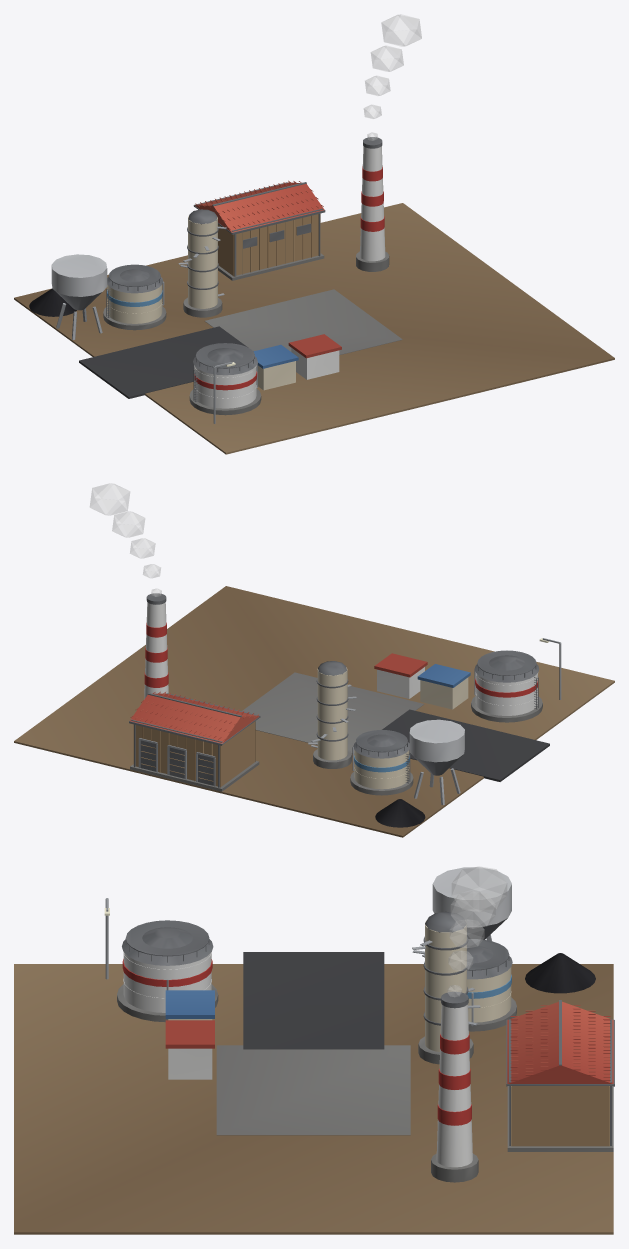
Rendered from Refinery_P1.fbx.
3 views of the same model, one above another, from view 1: azimuth 30°, elevation 25°; view 2: azimuth 150°, elevation 25°; view 3: azimuth 270°, elevation 25° (orthographic). The views are drawn at different scales.
Visible parts, largest first — view 1: Refinery.Pad, Refinery.Hall, Refinery.Tank0, Refinery.Tank1, Refinery.Col0, Refinery.Utils, Refinery.Stack0, Refinery.Intake, Refinery.Smoke0, Refinery.CoalIn; view 2: Refinery.Pad, Refinery.Hall, Refinery.Tank0, Refinery.Tank1, Refinery.Utils, Refinery.Col0, Refinery.Intake, Refinery.Smoke0, Refinery.Stack0, Refinery.CoalIn; view 3: Refinery.Pad, Refinery.Hall, Refinery.Tank0, Refinery.Stack0, Refinery.Col0, Refinery.Utils, Refinery.Intake, Refinery.Smoke0, Refinery.Tank1, Refinery.CoalIn.
Boxes of the visible parts, left/top/right/bottom form: Refinery.Pad: left=14, top=203, right=614, bottom=454; Refinery.Hall: left=193, top=180, right=325, bottom=280; Refinery.Tank0: left=189, top=343, right=261, bottom=415; Refinery.Tank1: left=103, top=264, right=166, bottom=330; Refinery.Col0: left=178, top=209, right=226, bottom=317; Refinery.Utils: left=253, top=334, right=341, bottom=390; Refinery.Stack0: left=356, top=137, right=389, bottom=271; Refinery.Intake: left=51, top=254, right=107, bottom=339; Refinery.Smoke0: left=364, top=14, right=421, bottom=140; Refinery.CoalIn: left=29, top=288, right=76, bottom=316; Refinery.Pad: left=14, top=586, right=614, bottom=837; Refinery.Hall: left=129, top=691, right=260, bottom=791; Refinery.Tank0: left=471, top=650, right=542, bottom=722; Refinery.Tank1: left=350, top=730, right=413, bottom=795; Refinery.Utils: left=374, top=653, right=470, bottom=709; Refinery.Col0: left=308, top=661, right=356, bottom=768; Refinery.Intake: left=409, top=719, right=464, bottom=805; Refinery.Smoke0: left=90, top=483, right=161, bottom=596; Refinery.Stack0: left=144, top=593, right=168, bottom=699; Refinery.CoalIn: left=375, top=799, right=425, bottom=827; Refinery.Pad: left=14, top=952, right=613, bottom=1234; Refinery.Hall: left=506, top=1000, right=614, bottom=1151; Refinery.Tank0: left=117, top=920, right=218, bottom=1022; Refinery.Stack0: left=431, top=991, right=478, bottom=1182; Refinery.Col0: left=412, top=911, right=480, bottom=1064; Refinery.Utils: left=165, top=990, right=214, bottom=1079; Refinery.Intake: left=432, top=867, right=511, bottom=940; Refinery.Smoke0: left=447, top=866, right=506, bottom=996; Refinery.Tank1: left=467, top=939, right=516, bottom=1031; Refinery.CoalIn: left=525, top=953, right=595, bottom=993.
Size of the model in its own units: 7500 by 4189 by 6817.
